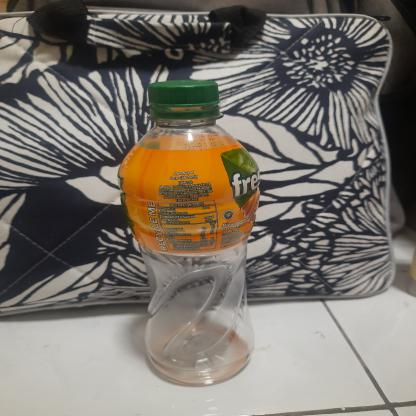bottle: (118, 78, 265, 391)
